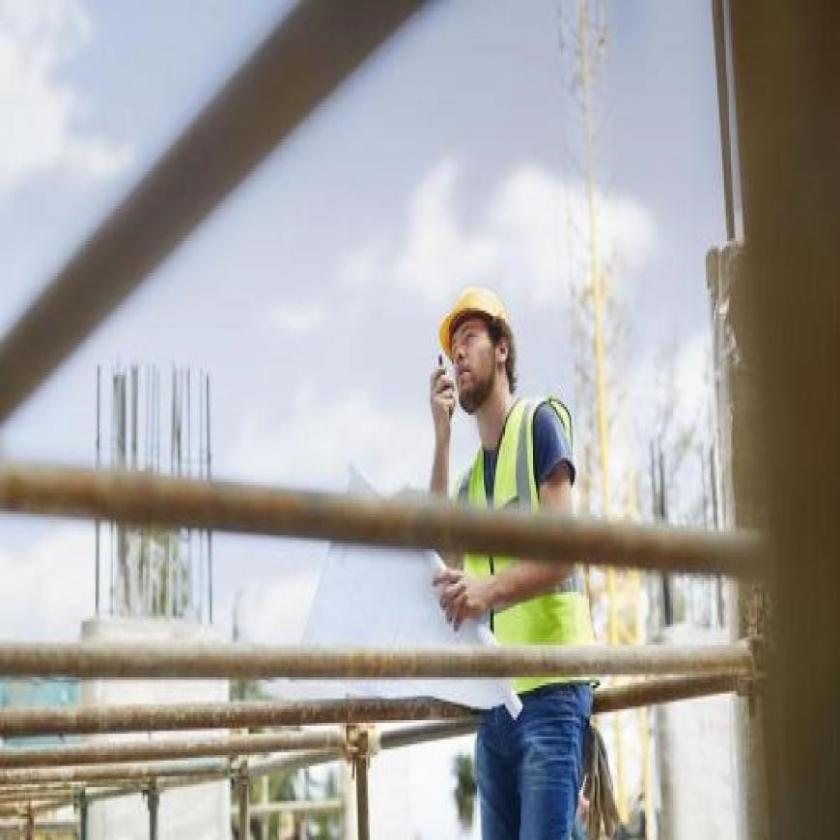Con_casco: (428, 276, 522, 434)
